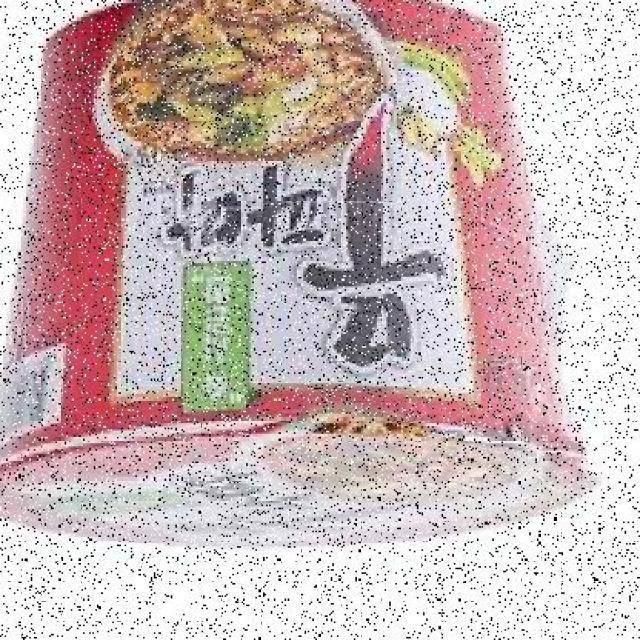Miscellaneous: (0, 0, 594, 554)
